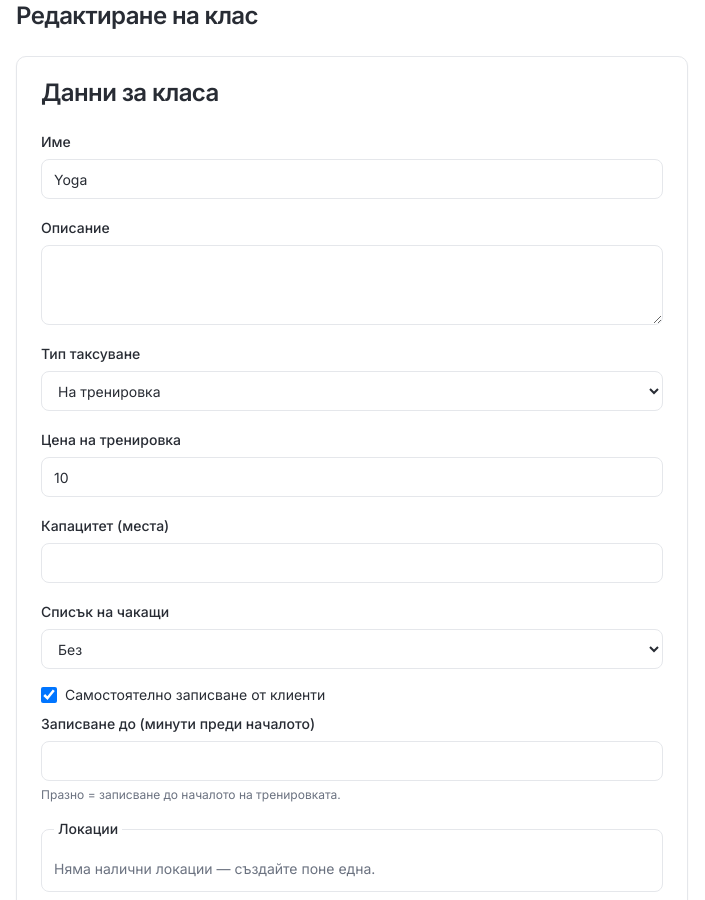
Test: ClassForm self-booking (TKT-0117) › rejects a fractional cutoff with the field error and sends nothing
Type "1.5" into the number field with id "bookingCutoffMin". click: [352, 761]
box: 41,741 -> 663,781
(page scrolled)
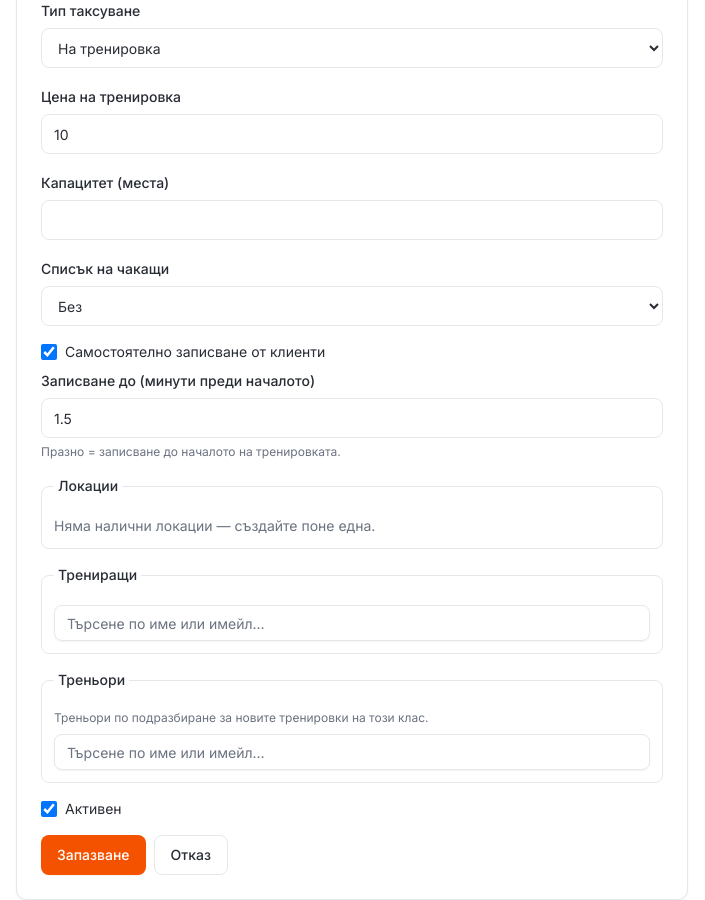
Click the button "Запазване". click: [93, 855]
box: 41,835 -> 146,875
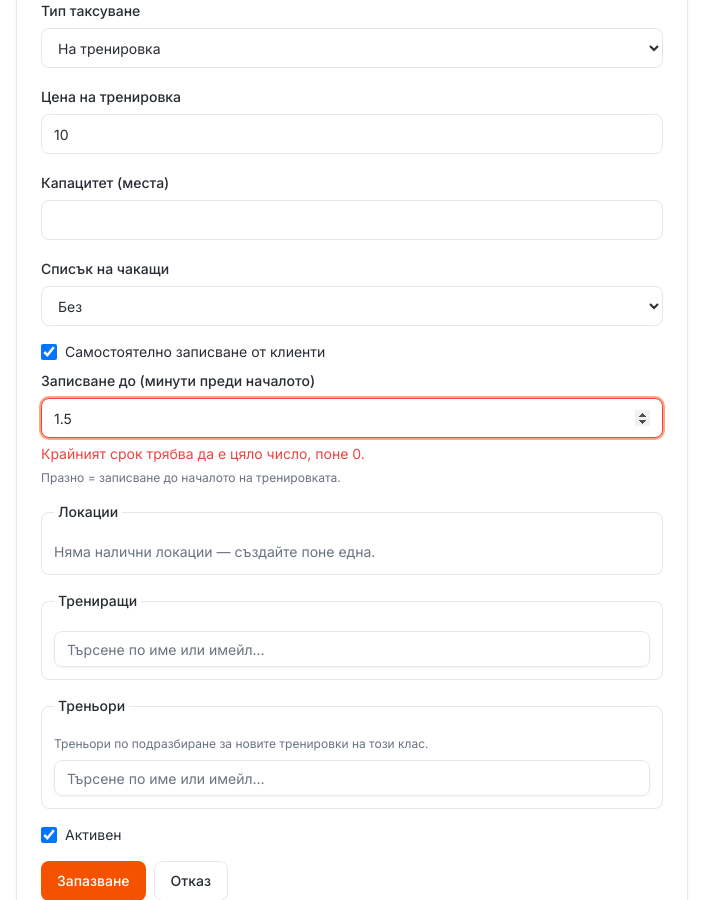
Now the text "Крайният срок трябва да е цяло число, поне 0." is shown, box 41,445 -> 365,462
